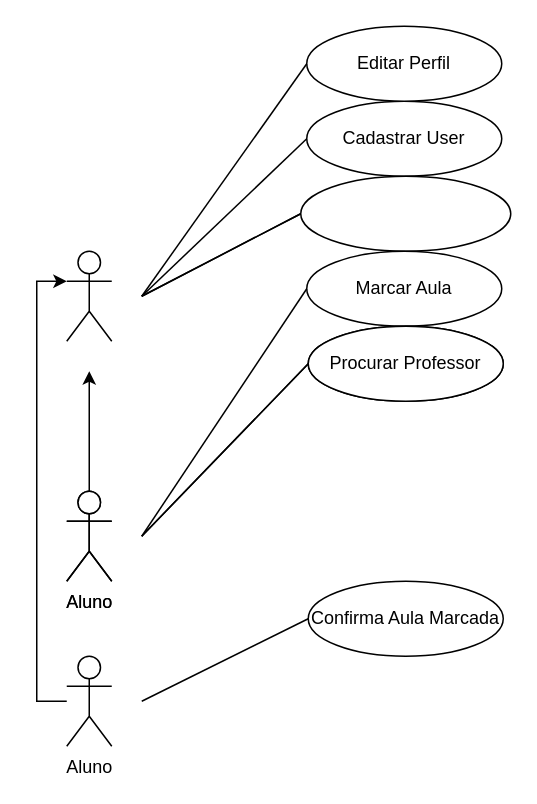
The diagram is 537 pixels wide and 804 high, and some of its shapes have lost their labels. The shapes that lost their labels are listed below. From the top down, each one's centre as x and y in pixels, then its label:
At [405,213]: "Verificar Aulas Marcadas".
At [88,295]: "Usuario".
